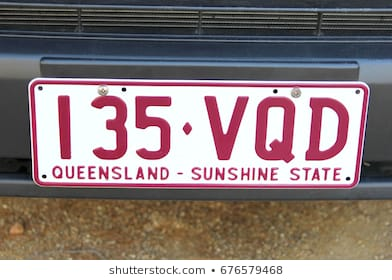number_plate: (26, 76, 369, 191)
